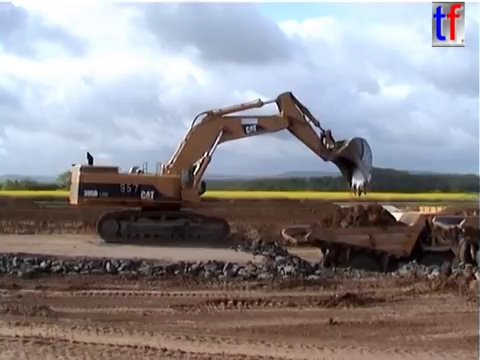excavator: (66, 87, 375, 246)
truck: (279, 204, 472, 288), (428, 213, 480, 273)
